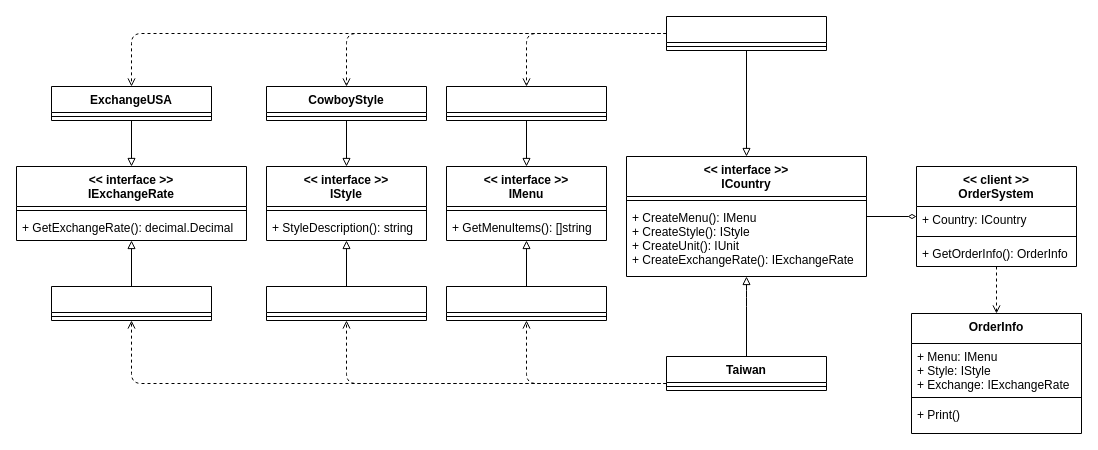
The diagram is 1098 pixels wide and 450 high, and some of its shapes have lost their labels. The shapes that lost their labels are listed below. From the top down, each one's box as (x1, y1, x2, y2) in pixels, then its label:
(666, 16, 826, 50): America
(446, 86, 606, 120): EnglishMenu
(50, 286, 212, 320): ExchangeTW
(266, 286, 426, 320): TaiwanStyle
(446, 286, 606, 320): ChineseMenu
